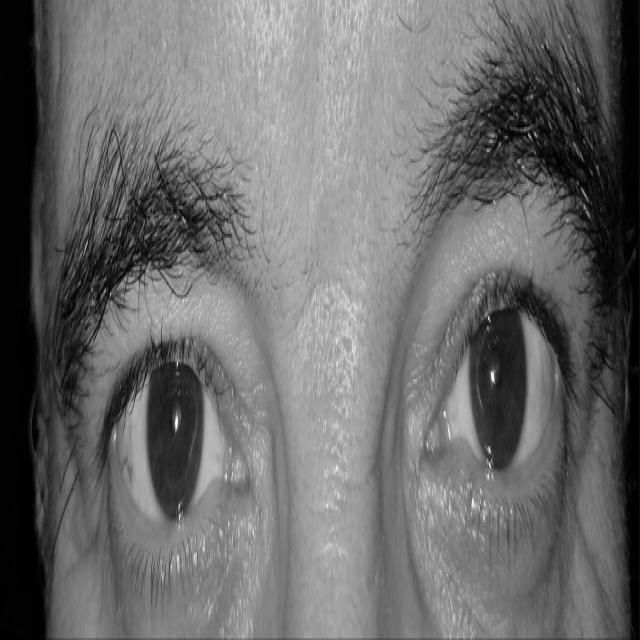real: (71, 179, 603, 615)
